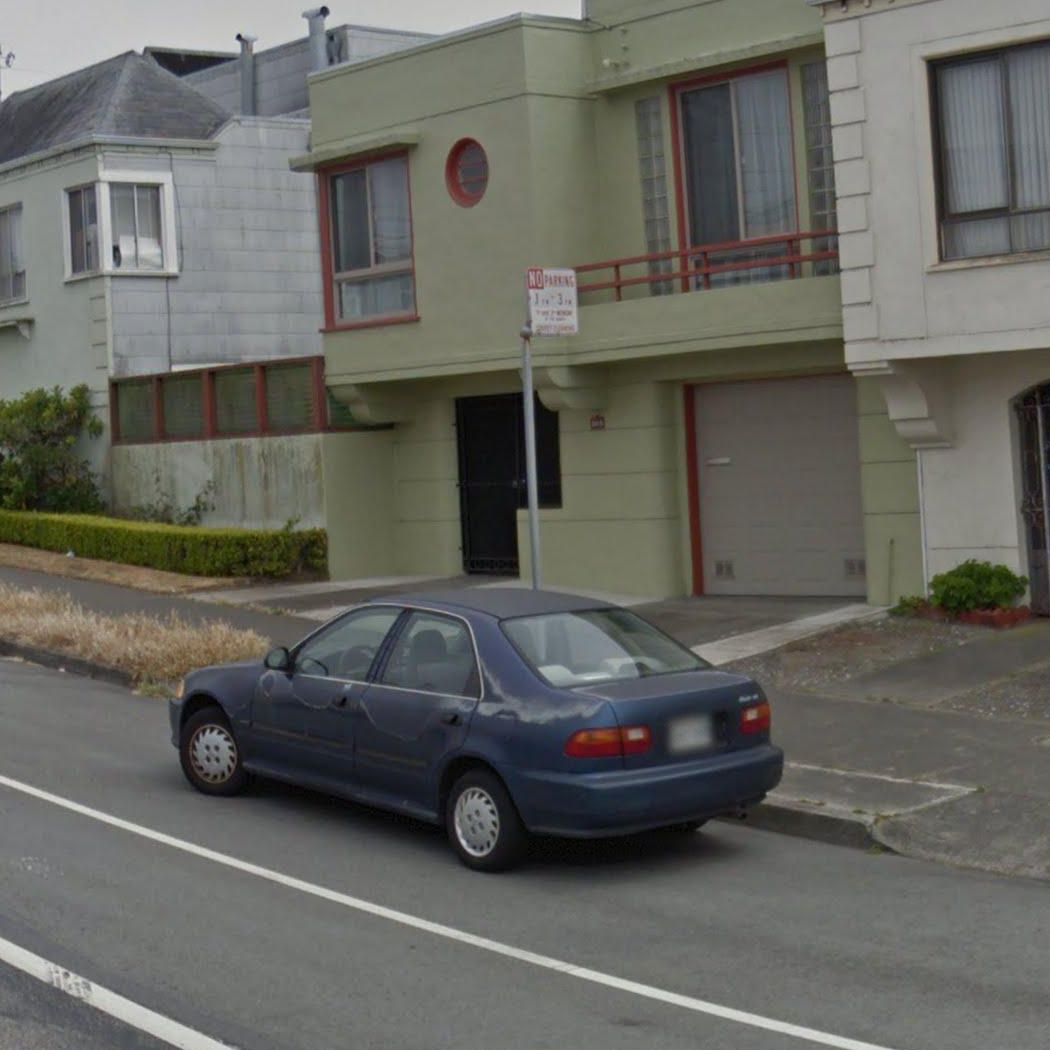No Parking: (524, 263, 579, 338)
